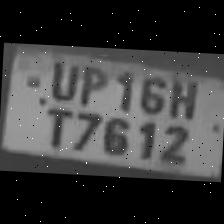1: (106, 64, 136, 110), (130, 114, 158, 160)
2: (154, 117, 192, 165)
6: (96, 112, 132, 158), (134, 69, 168, 114)
7: (65, 106, 98, 153)
H: (162, 70, 198, 120)
P: (74, 60, 109, 106)
T: (36, 102, 72, 150)
U: (42, 56, 79, 101)
